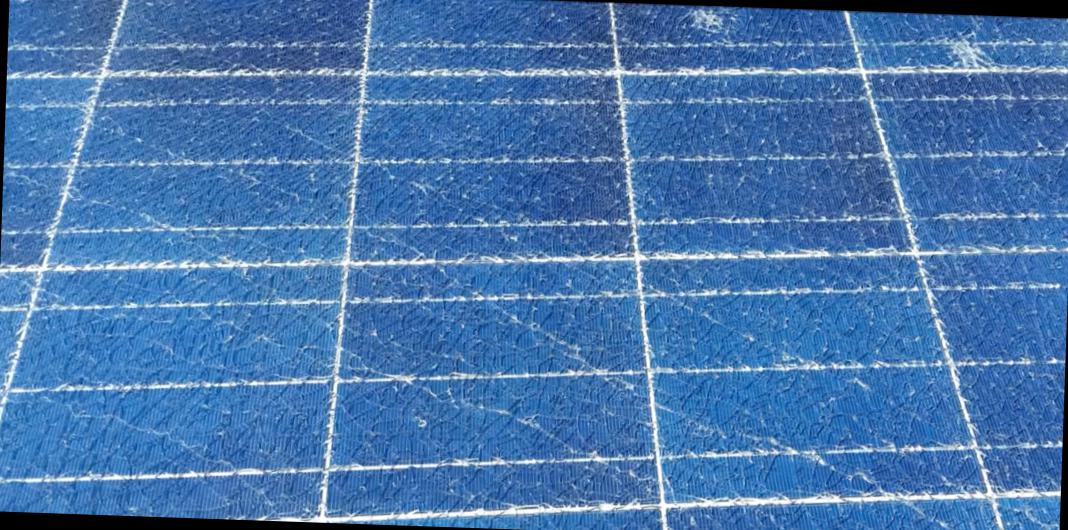Crack: (926, 21, 1013, 96), (685, 10, 748, 58)
